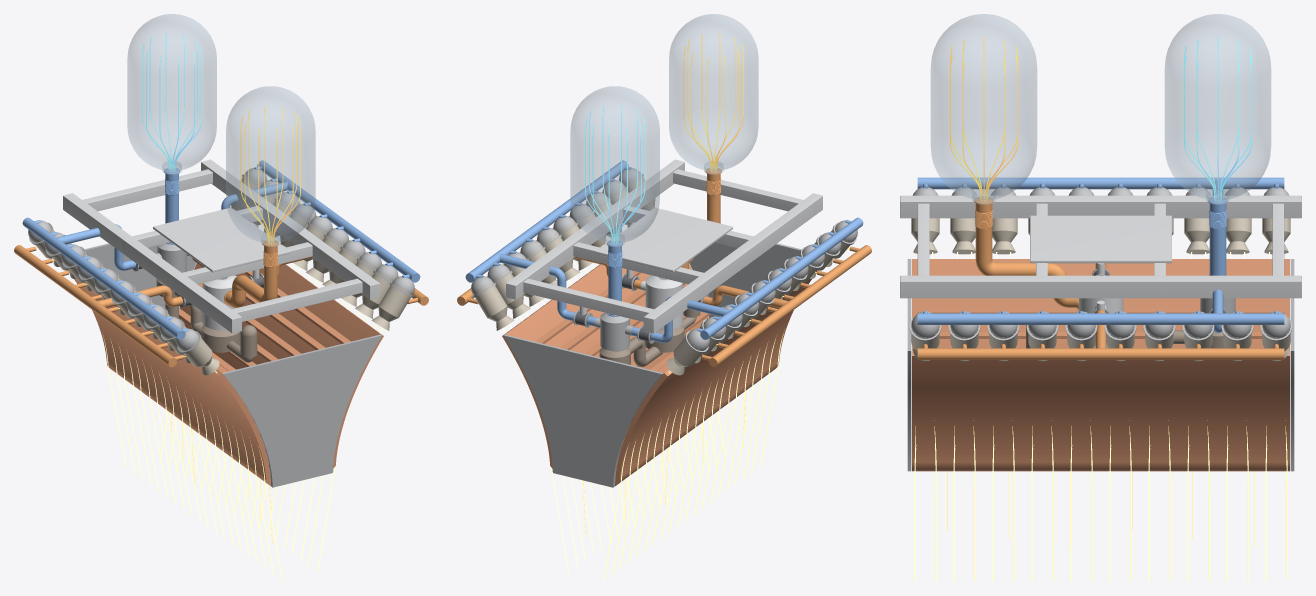
Rendered from aerospike_d.glb.
3 views of the same model, side by side, from view 1: azimuth 30°, elevation 25°; view 2: azimuth 150°, elevation 25°; view 3: azimuth 270°, elevation 25° (orthographic). The views are drawn at different scales.
Visible parts, largest first — view 1: AS_ThrustFrame, AS_EndFenceFront, AS_TankOxidizer, AS_TankFuel, AS_RampLeft, AS_RampRight, AS_ThrustCellsRight, AS_FLOW_HotGas, AS_ThrustCellsLeft, AS_ManifoldFuelLeft, AS_ManifoldOxidizerLeft, AS_ManifoldOxidizerRight (+11 smaller); view 2: AS_ThrustFrame, AS_EndFenceBack, AS_TankFuel, AS_TankOxidizer, AS_RampLeft, AS_FLOW_HotGas, AS_ThrustCellsRight, AS_RampRight, AS_ThrustCellsLeft, AS_ManifoldFuelLeft, AS_EndFenceFront, AS_ManifoldOxidizerLeft (+10 smaller); view 3: AS_RampRight, AS_ThrustFrame, AS_TankFuel, AS_TankOxidizer, AS_RampLeft, AS_ThrustCellsRight, AS_ThrustCellsLeft, AS_FLOW_HotGas, AS_ManifoldFuelRight, AS_ManifoldOxidizerRight, AS_ManifoldOxidizerLeft, AS_FeedLineFuel (+7 smaller).
Boxes of the visible parts, x1=… form: AS_ThrustFrame: x1=63, y1=159, x2=379, y2=333; AS_EndFenceFront: x1=222, y1=334, x2=381, y2=487; AS_TankOxidizer: x1=127, y1=14, x2=216, y2=174; AS_TankFuel: x1=226, y1=86, x2=315, y2=246; AS_RampLeft: x1=68, y1=270, x2=270, y2=485; AS_RampRight: x1=179, y1=258, x2=383, y2=468; AS_ThrustCellsRight: x1=231, y1=168, x2=414, y2=330; AS_FLOW_HotGas: x1=103, y1=264, x2=383, y2=581; AS_ThrustCellsLeft: x1=28, y1=220, x2=219, y2=375; AS_ManifoldFuelLeft: x1=14, y1=245, x2=184, y2=367; AS_ManifoldOxidizerLeft: x1=22, y1=217, x2=188, y2=339; AS_ManifoldOxidizerRight: x1=254, y1=160, x2=420, y2=282; AS_ThrustFrame: x1=506, y1=159, x2=822, y2=333; AS_EndFenceBack: x1=504, y1=334, x2=663, y2=487; AS_TankFuel: x1=669, y1=14, x2=758, y2=174; AS_TankOxidizer: x1=570, y1=86, x2=659, y2=246; AS_RampLeft: x1=615, y1=270, x2=817, y2=485; AS_FLOW_HotGas: x1=502, y1=264, x2=783, y2=581; AS_ThrustCellsRight: x1=471, y1=168, x2=655, y2=330; AS_RampRight: x1=502, y1=258, x2=710, y2=468; AS_ThrustCellsLeft: x1=666, y1=220, x2=857, y2=375; AS_ManifoldFuelLeft: x1=701, y1=245, x2=871, y2=367; AS_EndFenceFront: x1=689, y1=242, x2=800, y2=317; AS_ManifoldOxidizerLeft: x1=697, y1=217, x2=863, y2=339; AS_RampRight: x1=912, y1=351, x2=1289, y2=471; AS_ThrustFrame: x1=900, y1=195, x2=1301, y2=298; AS_TankFuel: x1=931, y1=14, x2=1036, y2=204; AS_TankOxidizer: x1=1165, y1=14, x2=1270, y2=204; AS_RampLeft: x1=912, y1=259, x2=1289, y2=350; AS_ThrustCellsRight: x1=909, y1=311, x2=1292, y2=361; AS_ThrustCellsLeft: x1=911, y1=187, x2=1290, y2=254; AS_FLOW_HotGas: x1=914, y1=252, x2=1287, y2=581; AS_ManifoldFuelRight: x1=917, y1=344, x2=1284, y2=359; AS_ManifoldOxidizerRight: x1=917, y1=311, x2=1284, y2=324; AS_ManifoldOxidizerLeft: x1=917, y1=177, x2=1284, y2=189; AS_FeedLineFuel: x1=974, y1=196, x2=1078, y2=309.
Size of the model in its own units: 3.02 by 5.16 by 3.4.
